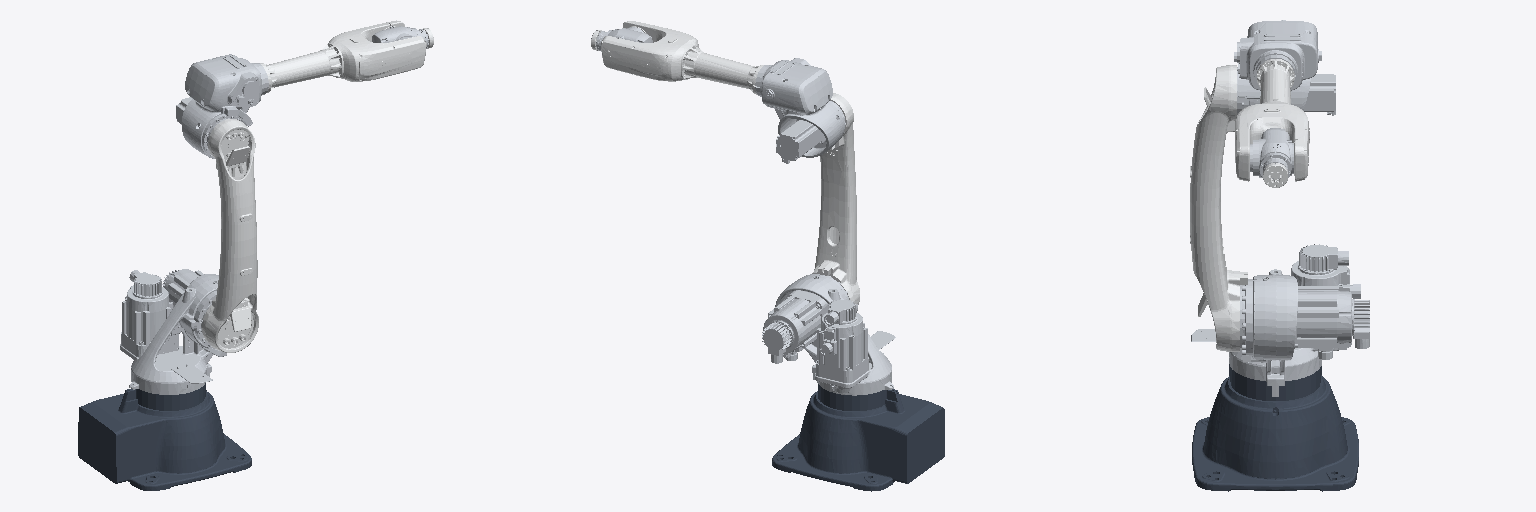
The robot description file, URDF, robot "IR-R10-140S5-D1NH-INT_01741041":
<?xml version="1.0"?>
<!-- Firmware source: params_package/Standard/Body/IR-R10-140S5-D1NH-INT_01741041/IR-R10-140S5-D1NH-INT_01741041.json; SHA256 853dc73a9cd22686617a090f20c50b4eab6fd1920d6265d45cf429178f002685. -->
<!-- Z-up; STL mm scaled to m. Effective firmware mass properties are SI and transformed into CAD link frames. -->
<!-- Revolute effort is nominal output torque; prismatic effort is ideal screw force. See physics-audit.json for approximations. -->
<robot name="IR-R10-140S5-D1NH-INT_01741041">
  <link name="base_link">

    <visual name="base">
      <origin xyz="0 0 0" rpy="0 0 0"/>
      <geometry>
        <mesh filename="../models/IR-R10-140/P0.stl" scale="0.001 0.001 0.001"/>
      </geometry>
      <material name="base_material">
        <color rgba="0.31 0.35 0.41 1"/>
      </material>
    </visual>
    <collision name="base_collision">
      <origin xyz="0 0 0" rpy="0 0 0"/>
      <geometry>
        <mesh filename="../models/IR-R10-140/P0.stl" scale="0.001 0.001 0.001"/>
      </geometry>
    </collision>
  </link>

  <link name="link_1">

    <!-- inertial source: bounding-box-fallback -->
    <!-- Effective firmware principal moments are not physically realizable; no unit guessing applied -->
    <inertial>
      <origin xyz="0.060007408142 0.013005393982 0.3915" rpy="0 0 0"/>
      <mass value="43.057551475693"/>
      <inertia ixx="1.081464005193" ixy="0" ixz="0" iyy="0.929388075614" iyz="0" izz="1.243501927183"/>
    </inertial>

    <visual name="link_1">
      <origin xyz="0 0 0" rpy="0 0 0"/>
      <geometry>
        <mesh filename="../models/IR-R10-140/P1.stl" scale="0.001 0.001 0.001"/>
      </geometry>
      <material name="link_1_material">
        <color rgba="0.84 0.86 0.89 1"/>
      </material>
    </visual>
    <collision name="link_1_collision">
      <origin xyz="0 0 0" rpy="0 0 0"/>
      <geometry>
        <mesh filename="../models/IR-R10-140/P1.stl" scale="0.001 0.001 0.001"/>
      </geometry>
    </collision>
  </link>

  <link name="link_2">

    <!-- inertial source: bounding-box-fallback -->
    <!-- Effective firmware principal moments are not physically realizable; no unit guessing applied -->
    <inertial>
      <origin xyz="-0.000000001907 -0.14 0.296000015259" rpy="0 0 0"/>
      <mass value="13.004076910488"/>
      <inertia ixx="0.657944567038" ixy="0" ixz="0" iyy="0.668178209667" iyz="0" izz="0.055175732431"/>
    </inertial>

    <visual name="link_2">
      <origin xyz="-0.15 0 -0.45" rpy="0 0 0"/>
      <geometry>
        <mesh filename="../models/IR-R10-140/P2.stl" scale="0.001 0.001 0.001"/>
      </geometry>
      <material name="link_2_material">
        <color rgba="0.94 0.95 0.96 1"/>
      </material>
    </visual>
    <collision name="link_2_collision">
      <origin xyz="-0.15 0 -0.45" rpy="0 0 0"/>
      <geometry>
        <mesh filename="../models/IR-R10-140/P2.stl" scale="0.001 0.001 0.001"/>
      </geometry>
    </collision>
  </link>

  <link name="link_3">

    <!-- inertial source: firmware-effective-si -->
    <inertial>
      <origin xyz="0.017402062511 -0.00682588572 0.048515569992" rpy="0 0 0"/>
      <mass value="12.966814257161"/>
      <inertia ixx="0.093144097632" ixy="0" ixz="0" iyy="0.116113554552" iyz="0" izz="0.11781645182"/>
    </inertial>

    <visual name="link_3">
      <origin xyz="-0.15 0 -1.06" rpy="0 0 0"/>
      <geometry>
        <mesh filename="../models/IR-R10-140/P3.stl" scale="0.001 0.001 0.001"/>
      </geometry>
      <material name="link_3_material">
        <color rgba="0.84 0.86 0.89 1"/>
      </material>
    </visual>
    <collision name="link_3_collision">
      <origin xyz="-0.15 0 -1.06" rpy="0 0 0"/>
      <geometry>
        <mesh filename="../models/IR-R10-140/P3.stl" scale="0.001 0.001 0.001"/>
      </geometry>
    </collision>
  </link>

  <link name="link_4">

    <!-- inertial source: bounding-box-fallback -->
    <!-- Effective firmware principal moments are not physically realizable; no unit guessing applied -->
    <inertial>
      <origin xyz="0.435465240479 -0.00875466156 0.001992736816" rpy="0 0 0"/>
      <mass value="9.82570857577"/>
      <inertia ixx="0.038691797932" ixy="0" ixz="0" iyy="0.242326004536" iyz="0" izz="0.259729893538"/>
    </inertial>

    <visual name="link_4">
      <origin xyz="-0.15 0 -1.185" rpy="0 0 0"/>
      <geometry>
        <mesh filename="../models/IR-R10-140/P4.stl" scale="0.001 0.001 0.001"/>
      </geometry>
      <material name="link_4_material">
        <color rgba="0.94 0.95 0.96 1"/>
      </material>
    </visual>
    <collision name="link_4_collision">
      <origin xyz="-0.15 0 -1.185" rpy="0 0 0"/>
      <geometry>
        <mesh filename="../models/IR-R10-140/P4.stl" scale="0.001 0.001 0.001"/>
      </geometry>
    </collision>
  </link>

  <link name="link_5">

    <!-- inertial source: bounding-box-fallback -->
    <!-- Effective firmware principal moments are not physically realizable; no unit guessing applied -->
    <inertial>
      <origin xyz="0.006656433105 -0.0095 0" rpy="0 0 0"/>
      <mass value="2.108947551478"/>
      <inertia ixx="0.004062711712" ixy="0" ixz="0" iyy="0.007124498353" iyz="0" izz="0.007237854284"/>
    </inertial>

    <visual name="link_5">
      <origin xyz="-0.8 0 -1.185" rpy="0 0 0"/>
      <geometry>
        <mesh filename="../models/IR-R10-140/P5.stl" scale="0.001 0.001 0.001"/>
      </geometry>
      <material name="link_5_material">
        <color rgba="0.84 0.86 0.89 1"/>
      </material>
    </visual>
    <collision name="link_5_collision">
      <origin xyz="-0.8 0 -1.185" rpy="0 0 0"/>
      <geometry>
        <mesh filename="../models/IR-R10-140/P5.stl" scale="0.001 0.001 0.001"/>
      </geometry>
    </collision>
  </link>

  <link name="link_6">

    <!-- inertial source: bounding-box-fallback -->
    <!-- Effective firmware principal moments are not physically realizable; no unit guessing applied -->
    <inertial>
      <origin xyz="-0.010499987793 0 -0.000031799316" rpy="0 0 0"/>
      <mass value="0.955031282708"/>
      <inertia ixx="0.000631115759" ixy="0" ixz="0" iyy="0.000347073539" iyz="0" izz="0.000347710973"/>
    </inertial>

    <visual name="link_6">
      <origin xyz="-0.9077 0 -1.185" rpy="0 0 0"/>
      <geometry>
        <mesh filename="../models/IR-R10-140/P6.stl" scale="0.001 0.001 0.001"/>
      </geometry>
      <material name="link_6_material">
        <color rgba="0.94 0.95 0.96 1"/>
      </material>
    </visual>
    <collision name="link_6_collision">
      <origin xyz="-0.9077 0 -1.185" rpy="0 0 0"/>
      <geometry>
        <mesh filename="../models/IR-R10-140/P6.stl" scale="0.001 0.001 0.001"/>
      </geometry>
    </collision>
  </link>

  <joint name="J1" type="revolute">
    <parent link="base_link"/>
    <child link="link_1"/>
    <origin xyz="0 0 0" rpy="0 0 0"/>
    <axis xyz="0 0 1"/>
    <limit lower="-2.96705972839" upper="2.96705972839" effort="581.8206474" velocity="3.490658503989"/>
  </joint>

  <joint name="J2" type="revolute">
    <parent link="link_1"/>
    <child link="link_2"/>
    <origin xyz="0.15 0 0.45" rpy="0 0 0"/>
    <axis xyz="0 -1 0"/>
    <limit lower="-2.792526803191" upper="1.047197551197" effort="692.9047767" velocity="3.490658503989"/>
  </joint>

  <joint name="J3" type="revolute">
    <parent link="link_2"/>
    <child link="link_3"/>
    <origin xyz="0 0 0.61" rpy="0 0 0"/>
    <axis xyz="0 -1 0"/>
    <limit lower="-1.396263401595" upper="2.792526803191" effort="289.2378" velocity="3.490658503989"/>
  </joint>

  <joint name="J4" type="revolute">
    <parent link="link_3"/>
    <child link="link_4"/>
    <origin xyz="0 0 0.125" rpy="0 0 0"/>
    <axis xyz="1 0 0"/>
    <limit lower="-3.14159265359" upper="3.14159265359" effort="52.208512" velocity="6.544984694979"/>
  </joint>

  <joint name="J5" type="revolute">
    <parent link="link_4"/>
    <child link="link_5"/>
    <origin xyz="0.65 0 0" rpy="0 0 0"/>
    <axis xyz="0 -1 0"/>
    <limit lower="-2.443460952792" upper="2.443460952792" effort="57.6096" velocity="6.544984694979"/>
  </joint>

  <joint name="J6" type="revolute">
    <parent link="link_5"/>
    <child link="link_6"/>
    <origin xyz="0.1077 0 0" rpy="0 0 0"/>
    <axis xyz="1 0 0"/>
    <limit lower="-6.28318530718" upper="6.28318530718" effort="15.995232" velocity="10.471975511966"/>
  </joint>

  <link name="tool0"/>
  <joint name="tool0_fixed" type="fixed">
    <parent link="link_6"/>
    <child link="tool0"/>
    <origin xyz="0 0 0" rpy="3.14159265359 -1.570796326795 0"/>
  </joint>
</robot>

--- What the picture shows (computed from the rendered views, not written in the file) ---
Views: 3 orthographic renders of the robot side by side, from view 1: azimuth 30°, elevation 25°; view 2: azimuth 150°, elevation 25°; view 3: azimuth 270°, elevation 25°.
Robot: IR-R10-140S5-D1NH-INT_01741041 — 8 links, 7 joints (6 revolute, 1 fixed); root link base_link; default pose: all joints at 0.
Links seen in each view (by area): view 1: base_link, link_1, link_2, link_4, link_3, link_5; view 2: base_link, link_1, link_3, link_2, link_4, link_5; view 3: base_link, link_1, link_2, link_3, link_4, link_5.
Boxes of the visible links, x1,y1,x2,y2 form: base_link: (78, 383, 251, 490); link_1: (120, 269, 226, 394); link_2: (202, 119, 258, 352); link_4: (260, 20, 426, 92); link_3: (176, 54, 268, 158); link_5: (372, 26, 428, 48); base_link: (772, 384, 944, 491); link_1: (762, 274, 895, 395); link_3: (755, 58, 845, 163); link_2: (812, 93, 859, 304); link_4: (601, 21, 763, 94); link_5: (595, 27, 652, 51); base_link: (1192, 364, 1358, 491); link_1: (1191, 244, 1369, 396); link_2: (1190, 65, 1247, 351); link_3: (1234, 20, 1335, 115); link_4: (1235, 59, 1309, 181); link_5: (1250, 128, 1293, 178).
Size in the robot's own frame: 1.16 by 0.4455 by 1.25 metres.
7 mesh visuals loaded from 7 distinct referenced files (7 binary STL).
